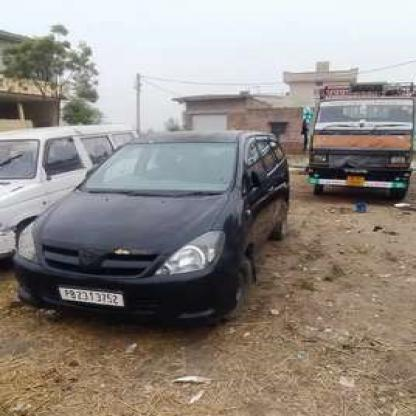license_plate: (56, 285, 121, 305)
